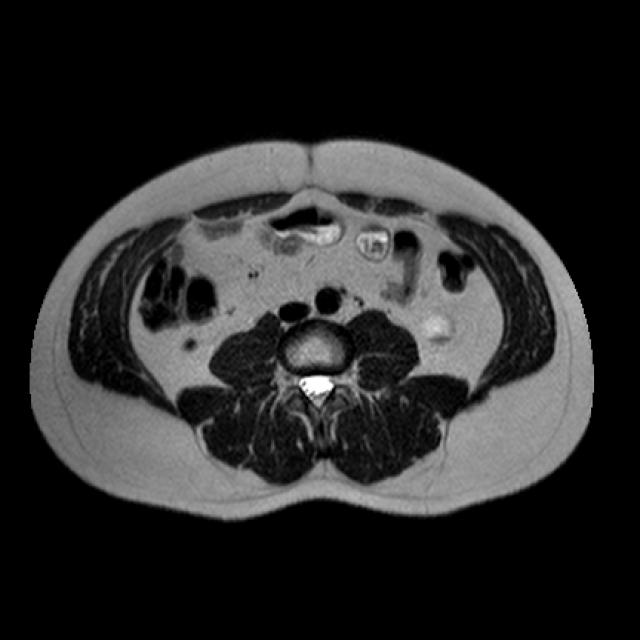sol: (423, 310, 455, 343)
